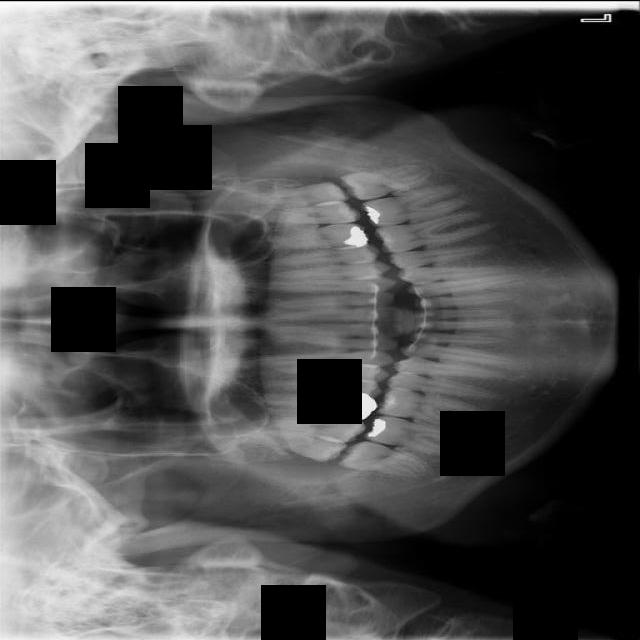3M ESPE Implant: (232, 411, 350, 469)
52: (363, 406, 406, 450), (331, 388, 378, 423), (376, 383, 420, 420), (360, 194, 405, 230), (323, 219, 372, 251)
73: (574, 37, 594, 40)
BioHorizons Implant: (238, 198, 361, 229)
BioLife Implant: (234, 178, 349, 217)
Biomet 3i Implant: (337, 159, 435, 204)
Blue Sky Bio Implant: (359, 180, 470, 230)
Caries: (243, 414, 366, 444)
Implant: (362, 409, 469, 462)
Keystone Dental Implant: (336, 435, 433, 483)
